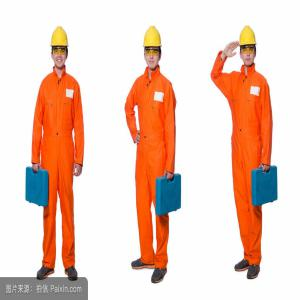yellow: (143, 25, 163, 71), (239, 25, 258, 68), (51, 28, 69, 72)
